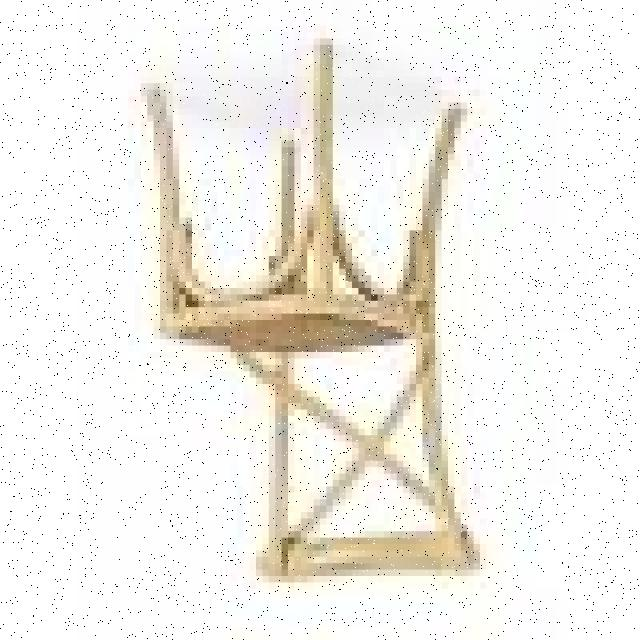bottle: (141, 46, 476, 586)
